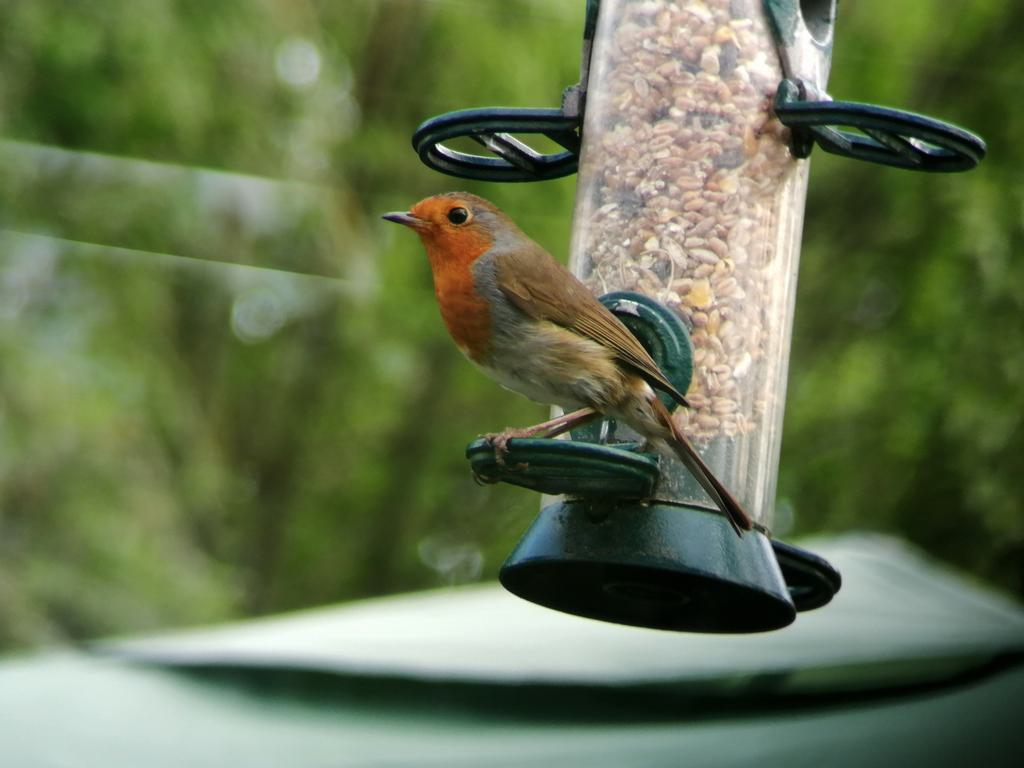ErithacusRubecula: (382, 191, 751, 538)
